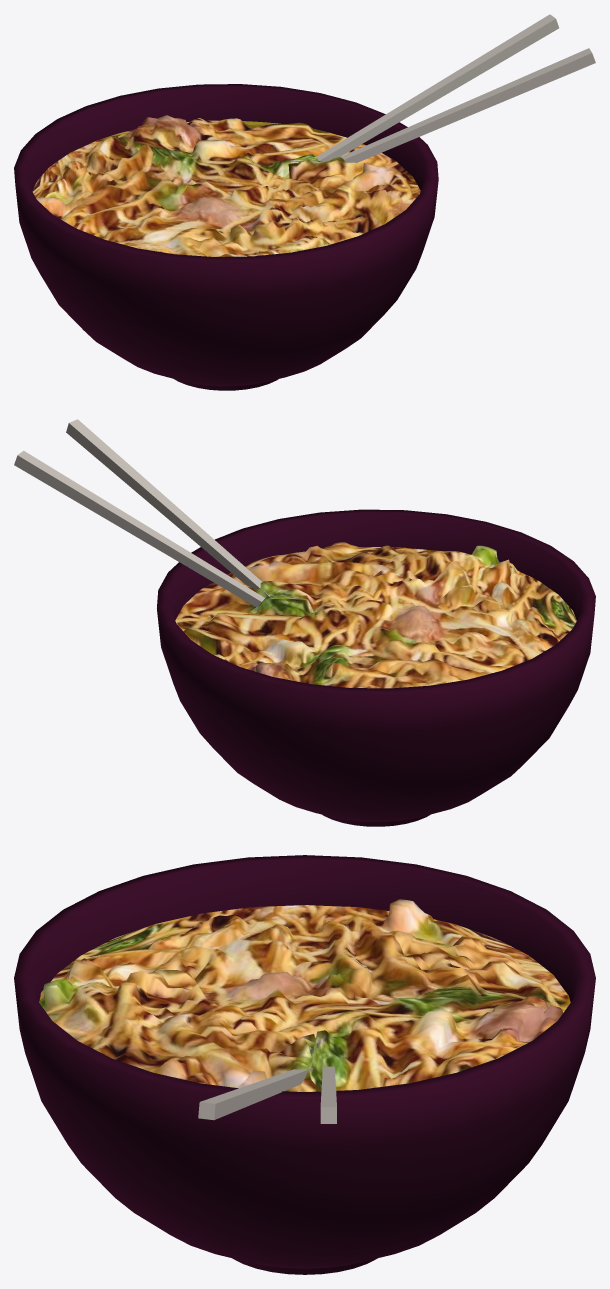
The model's file is food_bowl_low_quality.glb.
3 views of the same model, one above another, from view 1: azimuth 30°, elevation 25°; view 2: azimuth 150°, elevation 25°; view 3: azimuth 270°, elevation 25° (orthographic). The views are drawn at different scales.
Visible parts, largest first — view 1: Sphere_0, Plane_1, Cube_2, Cube.001_3; view 2: Sphere_0, Plane_1, Cube_2, Cube.001_3; view 3: Sphere_0, Plane_1, Cube.001_3, Cube_2.
Boxes of the visible parts, x1=… form: Sphere_0: x1=14, y1=84, x2=438, y2=390; Plane_1: x1=32, y1=115, x2=420, y2=256; Cube_2: x1=316, y1=14, x2=558, y2=161; Cube.001_3: x1=340, y1=48, x2=595, y2=163; Sphere_0: x1=157, y1=509, x2=595, y2=826; Plane_1: x1=175, y1=542, x2=576, y2=688; Cube_2: x1=14, y1=450, x2=264, y2=607; Cube.001_3: x1=66, y1=419, x2=269, y2=597; Sphere_0: x1=14, y1=855, x2=595, y2=1274; Plane_1: x1=39, y1=899, x2=570, y2=1091; Cube.001_3: x1=198, y1=1068, x2=312, y2=1120; Cube_2: x1=320, y1=1066, x2=336, y2=1123.
Bounding box in the file's own units: 2.84 × 1.34 × 2.
Materials: 4 (1 with a texture image).
